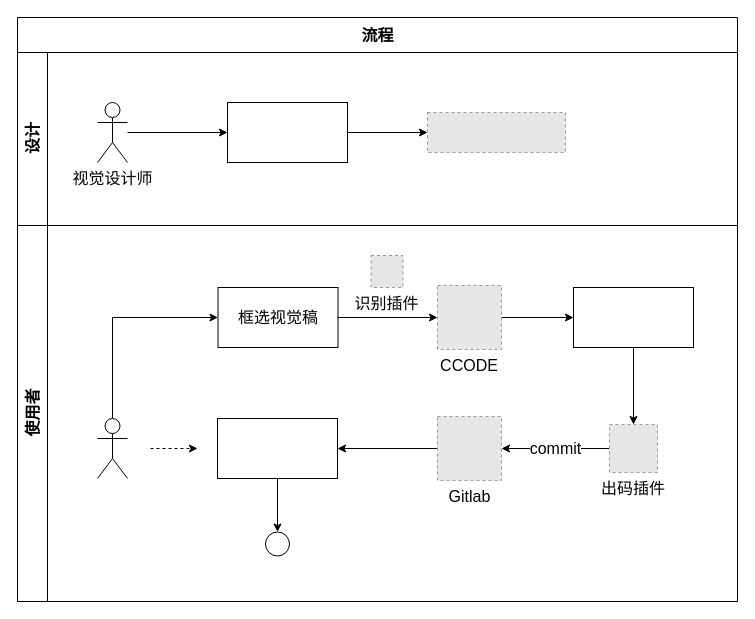
Some shapes in this 755 by 619 pixel diagram are drawn without their labels. Grey dashed boxes stand in for pictures. Each missing label, with the centre of its shape:
"开发" belongs at point (112, 448).
"视觉稿" belongs at point (287, 132).
"调整属性" belongs at point (633, 317).
"需求开发" belongs at point (277, 448).
